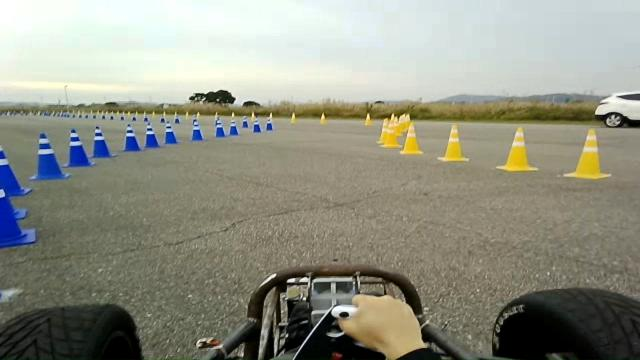blue cone: (0, 189, 36, 247), (28, 133, 70, 180), (0, 145, 32, 197), (594, 91, 639, 127), (61, 128, 95, 167), (90, 126, 116, 158), (120, 124, 142, 151), (143, 121, 161, 148), (162, 121, 179, 144), (190, 119, 204, 140), (228, 112, 239, 136), (214, 119, 226, 137), (229, 124, 239, 136), (252, 121, 262, 132), (241, 115, 249, 128), (265, 122, 274, 130)
yellow cone: (562, 128, 612, 180), (495, 126, 538, 172), (437, 124, 469, 162), (382, 108, 402, 148), (399, 124, 424, 155), (364, 112, 372, 126), (289, 112, 297, 123), (319, 112, 327, 123), (250, 110, 256, 122), (267, 112, 273, 122)
